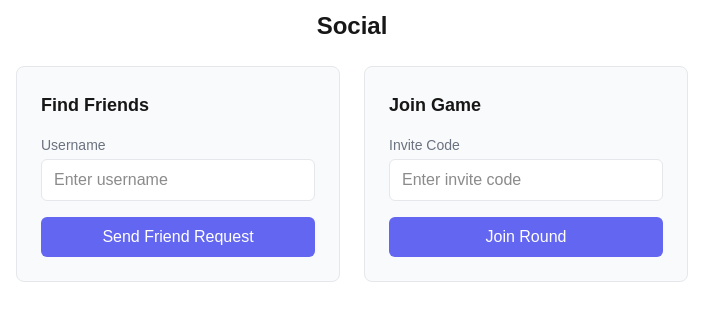
Test: SocialPage › shows validation error for empty friend search
Click the button "Send Friend Request" at (178, 237), box [41,217,315,257]
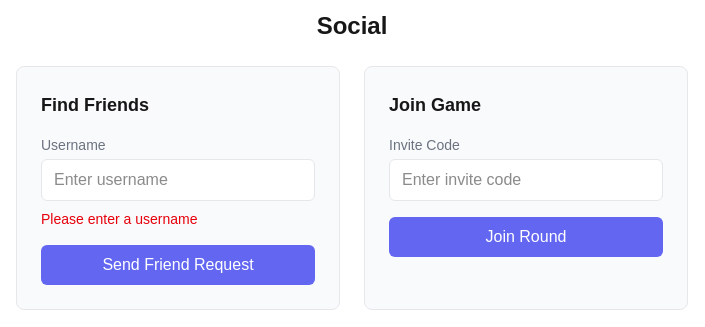
Expected: the text "Please enter a username" is shown, [41,211,197,227]
